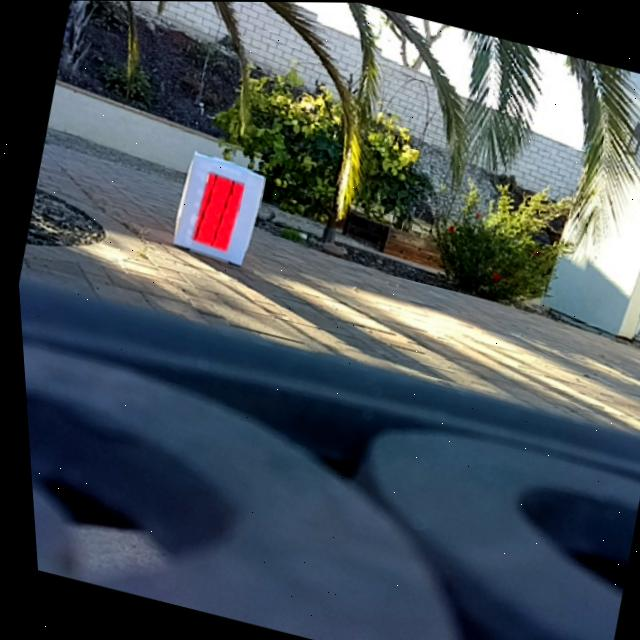led: (184, 169, 247, 254)
